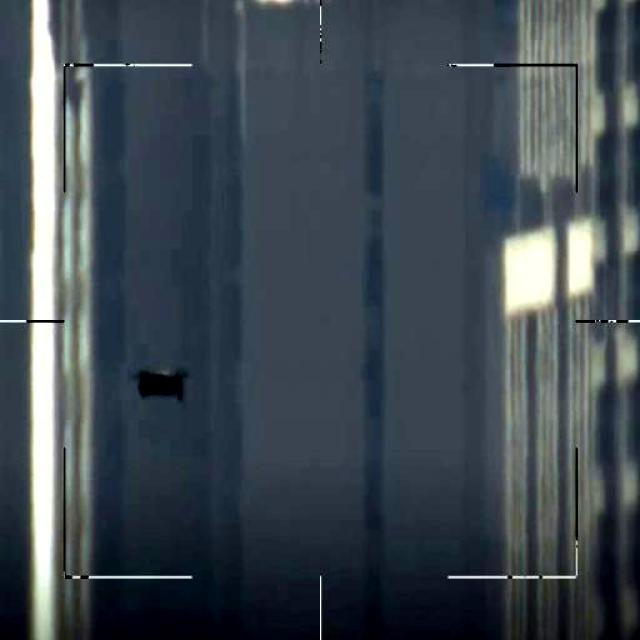bird: (140, 369, 190, 400)
